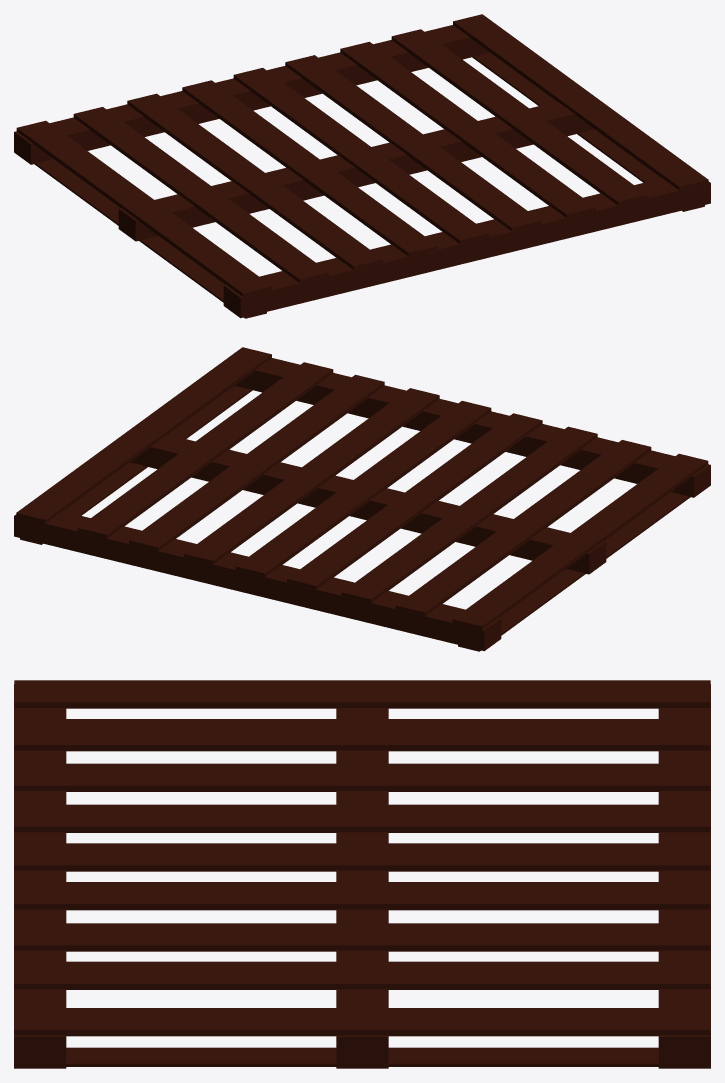
The model's file is Crates_Pallet_Unwrapped.fbx.
3 renders of one model, top to bottom at view 1: azimuth 30°, elevation 25°; view 2: azimuth 150°, elevation 25°; view 3: azimuth 270°, elevation 25°, orthographic. The views are drawn at different scales.
Parts seen in each view (by area): view 1: Crate_Pallet; view 2: Crate_Pallet; view 3: Crate_Pallet.
Part boxes in pixels (x1,y1,x2,y2): Crate_Pallet: (14,14,710,318); Crate_Pallet: (14,347,710,651); Crate_Pallet: (14,680,710,1068).
Size of the model in its own units: 47.24 by 2.49 by 39.41.
